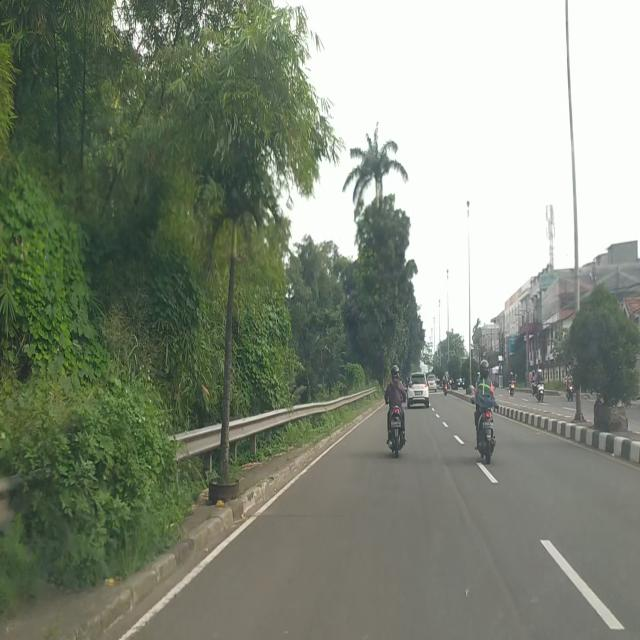Sewer Cover: (254, 506, 342, 522)
